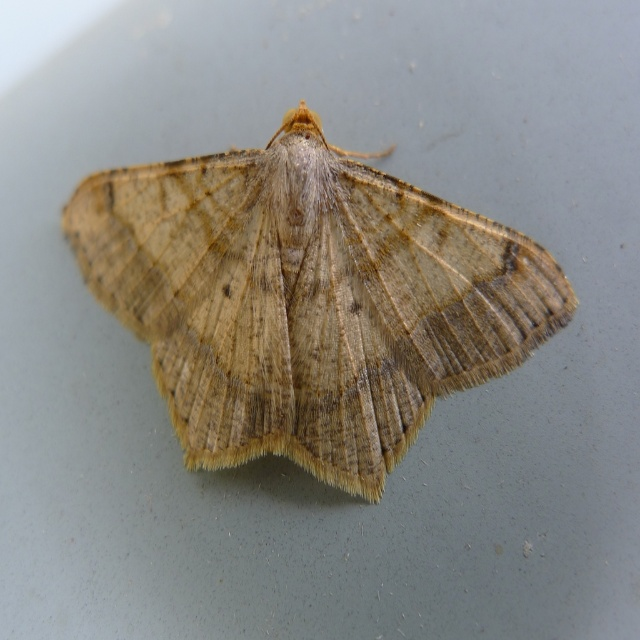Butterfly: (86, 90, 590, 503)
